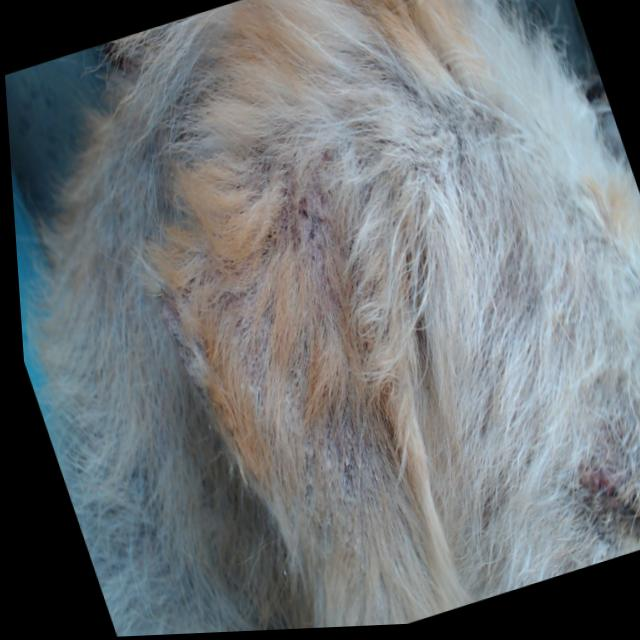demodicosis: (263, 171, 355, 315), (144, 285, 204, 354), (554, 455, 606, 514)
